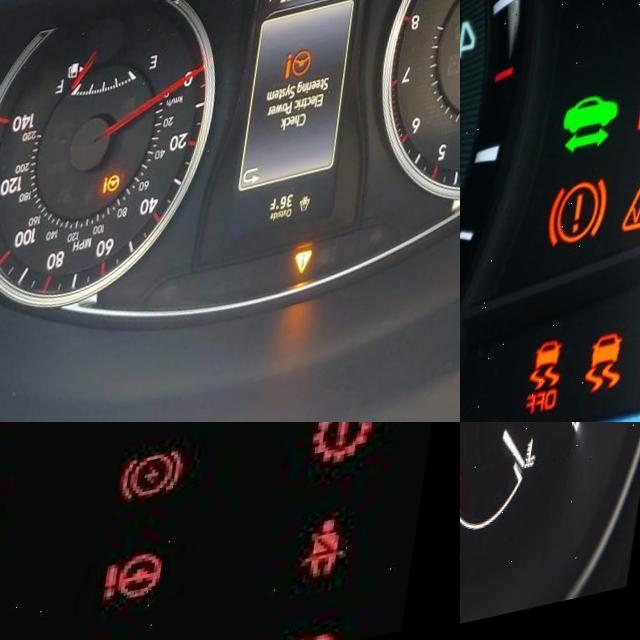Electronic Power Steering: (283, 59, 321, 100), (107, 174, 129, 206)
Electronic Power Steering Warning: (115, 565, 185, 625)
Seat Belt: (316, 539, 366, 605)
